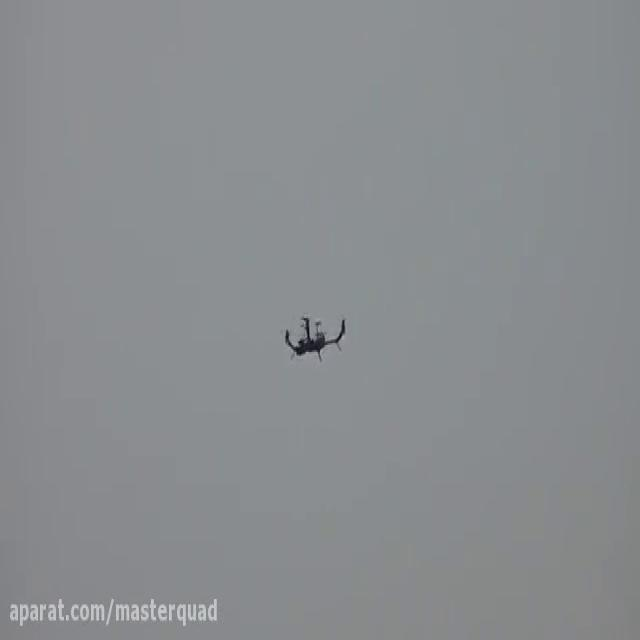drone: (275, 302, 353, 368)
